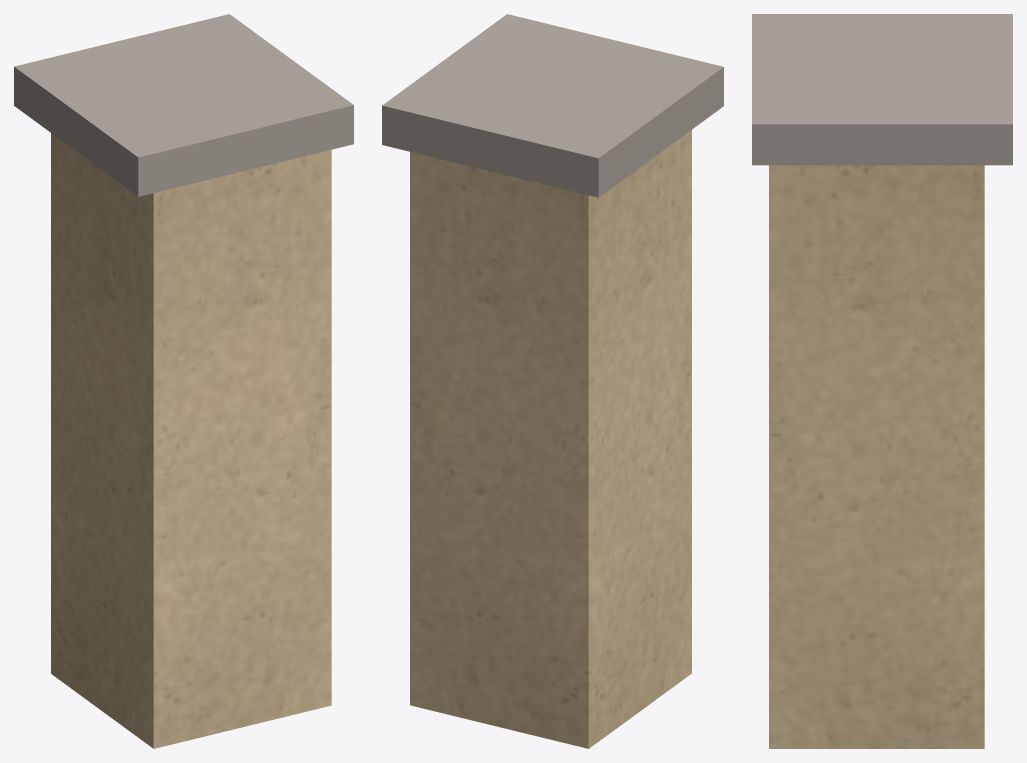
The model's file is corner_parapet.glb.
3 renders of one model, left to right at view 1: azimuth 30°, elevation 25°; view 2: azimuth 150°, elevation 25°; view 3: azimuth 270°, elevation 25°, orthographic. The views are drawn at different scales.
Parts seen in each view (by area): view 1: corner_parapet_render, corner_parapet_coping; view 2: corner_parapet_render, corner_parapet_coping; view 3: corner_parapet_render, corner_parapet_coping.
Boxes of the visible parts, <box> form: corner_parapet_render: <box>51,133,331,748</box>; corner_parapet_coping: <box>14,14,353,196</box>; corner_parapet_render: <box>410,130,691,748</box>; corner_parapet_coping: <box>382,14,723,197</box>; corner_parapet_render: <box>769,165,984,748</box>; corner_parapet_coping: <box>752,14,1012,165</box>.
Bounding box in the file's own units: 0.46 × 1.23 × 0.46.
2 materials, 1 textured.
